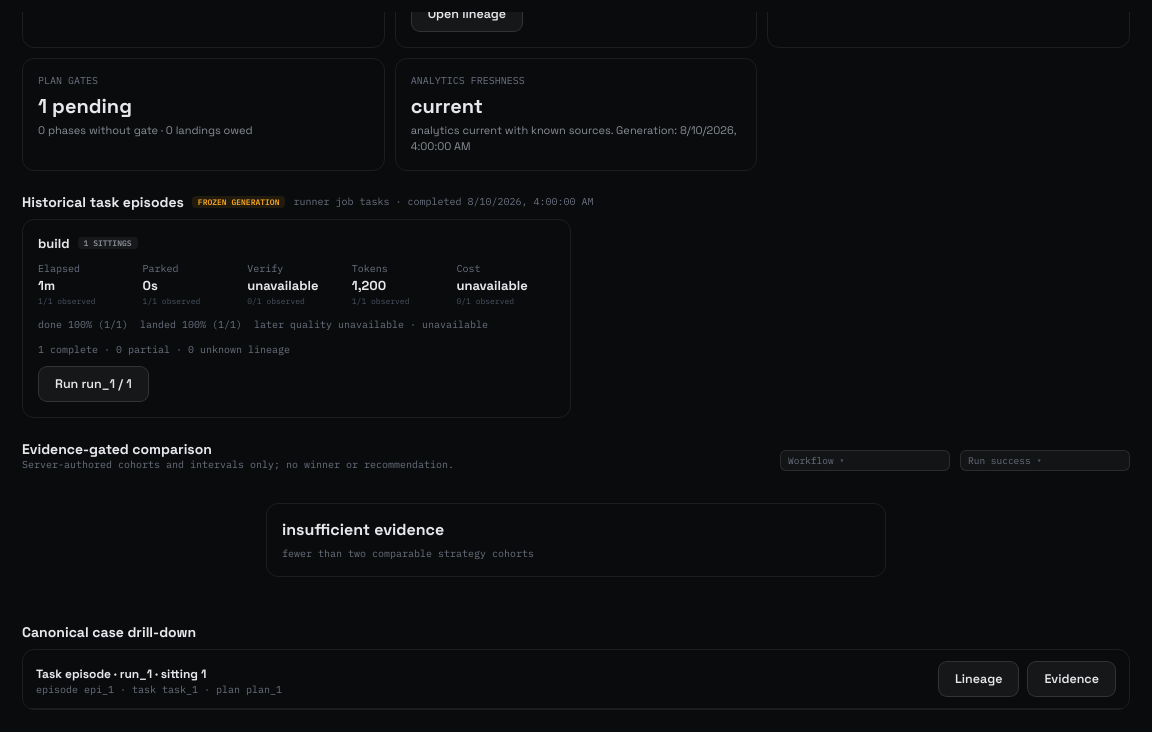
Scenario: Project Intelligence surface (PLNR-302) › opens canonical lineage inside Intelligence and restores it in query state
The width and height of the screenshot is (1152, 732).
(page scrolled)
Click the button "Lineage" at [979, 678], box top-left (938, 660), bottom-right (1019, 696)
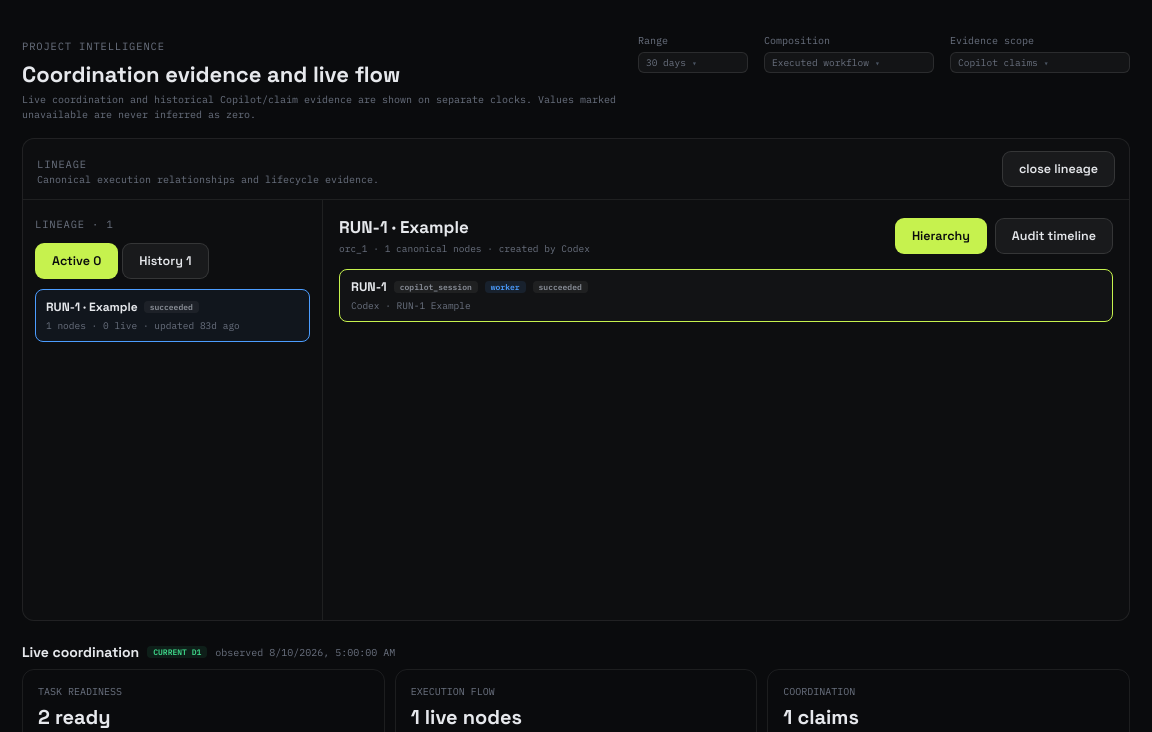
Check: the text "Canonical execution relationships" is shown, box top-left (37, 173), bottom-right (379, 186)
Check: the text "RUN-1 · Example" is shown, box top-left (46, 299), bottom-right (138, 315)
